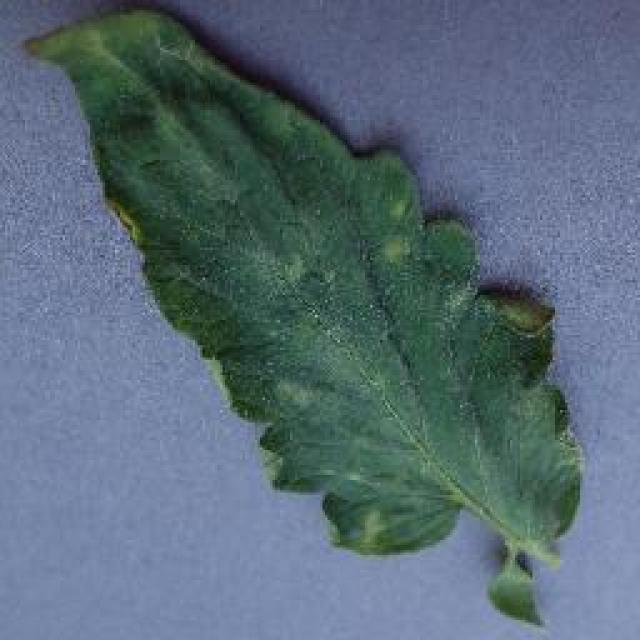Tomato mold leaf: (19, 5, 586, 583)
